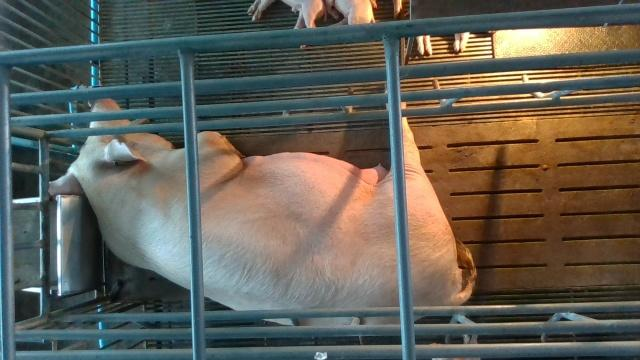piglet: (248, 0, 328, 48), (326, 0, 378, 24)
sow-sleep: (51, 98, 476, 327)
